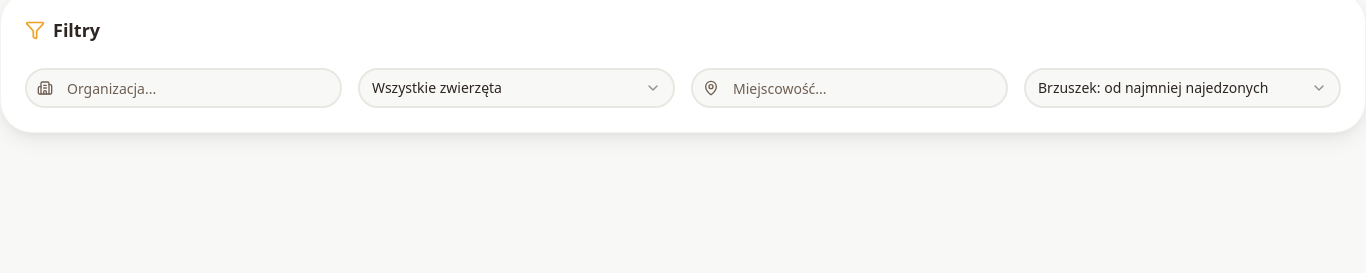
Test case: AnimalFilters › Clear Filters › should show clear button when species filter is not default
Click the dropdown "Wszystkie zwierzęta": [437, 88] box [358,68,675,108]
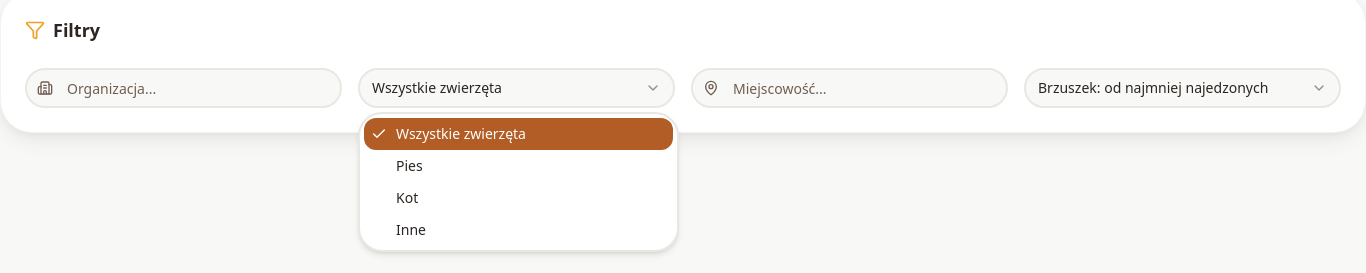
Click the option "Pies": [409, 166] box [396,156,423,175]
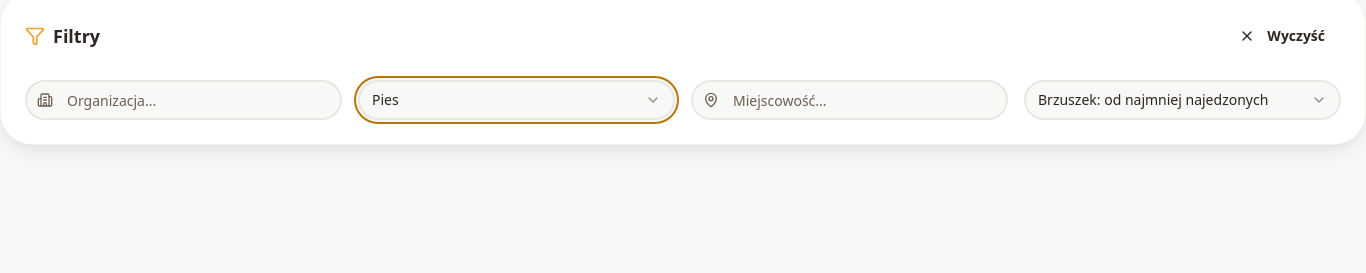
Expected: the button "Wyczyść" is shown, [1223,16,1341,56]
